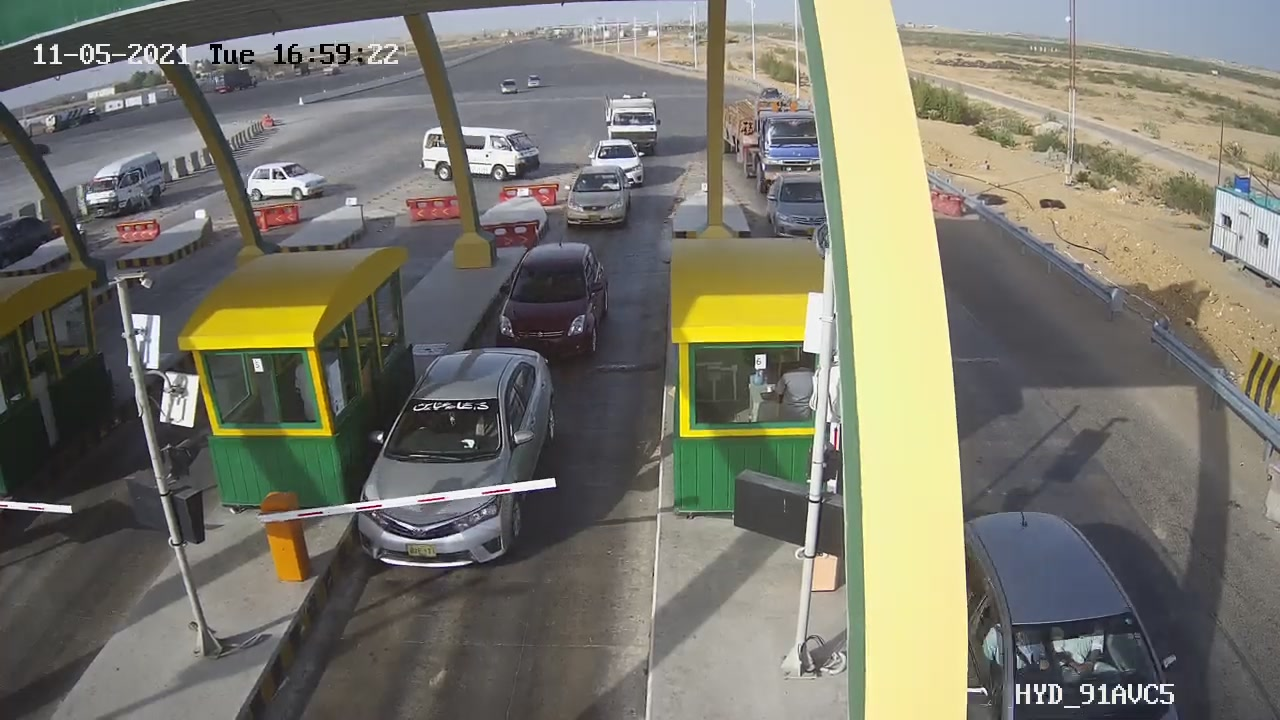F1: (340, 332, 576, 584), (483, 228, 618, 385), (550, 153, 650, 249)
